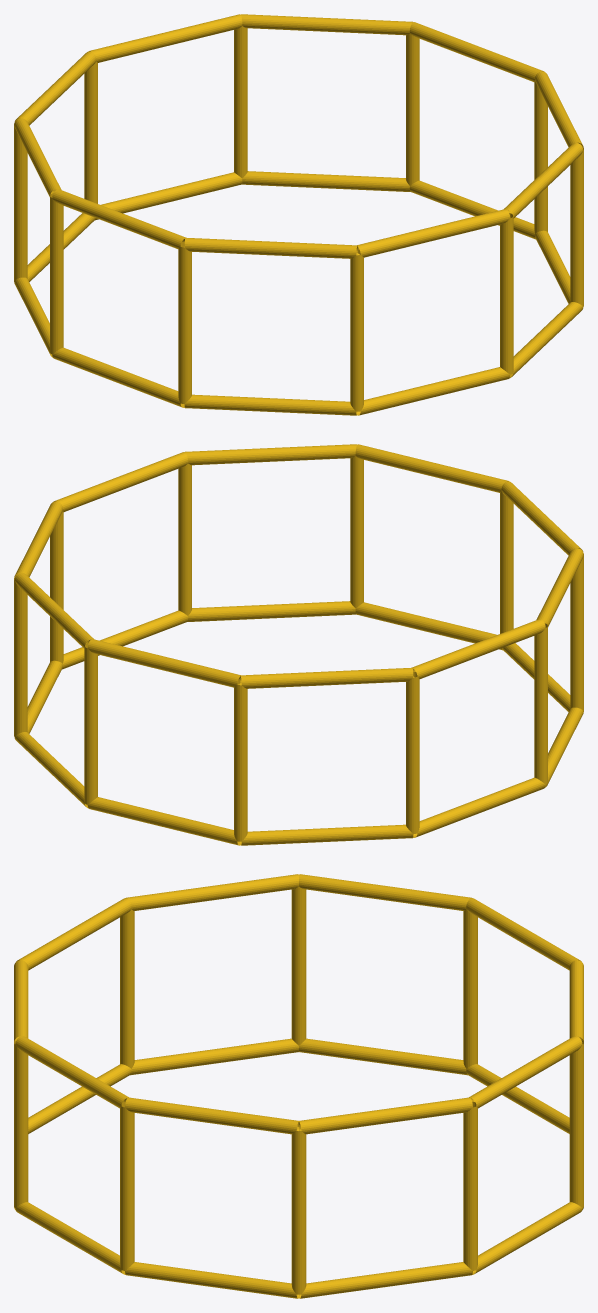
Rendered from trinexus2_1b.glb.
3 renders of one model, top to bottom at view 1: azimuth 30°, elevation 25°; view 2: azimuth 150°, elevation 25°; view 3: azimuth 270°, elevation 25°, orthographic. The views are drawn at different scales.
Visible parts, largest first — view 1: Mesh_101; view 2: Mesh_101; view 3: Mesh_101.
Part boxes in pixels (x1,y1,x2,y2): Mesh_101: [14, 14, 583, 415]; Mesh_101: [14, 444, 583, 845]; Mesh_101: [14, 874, 583, 1298].
Bounding box in the file's own units: 4.97 × 1.62 × 4.74.
